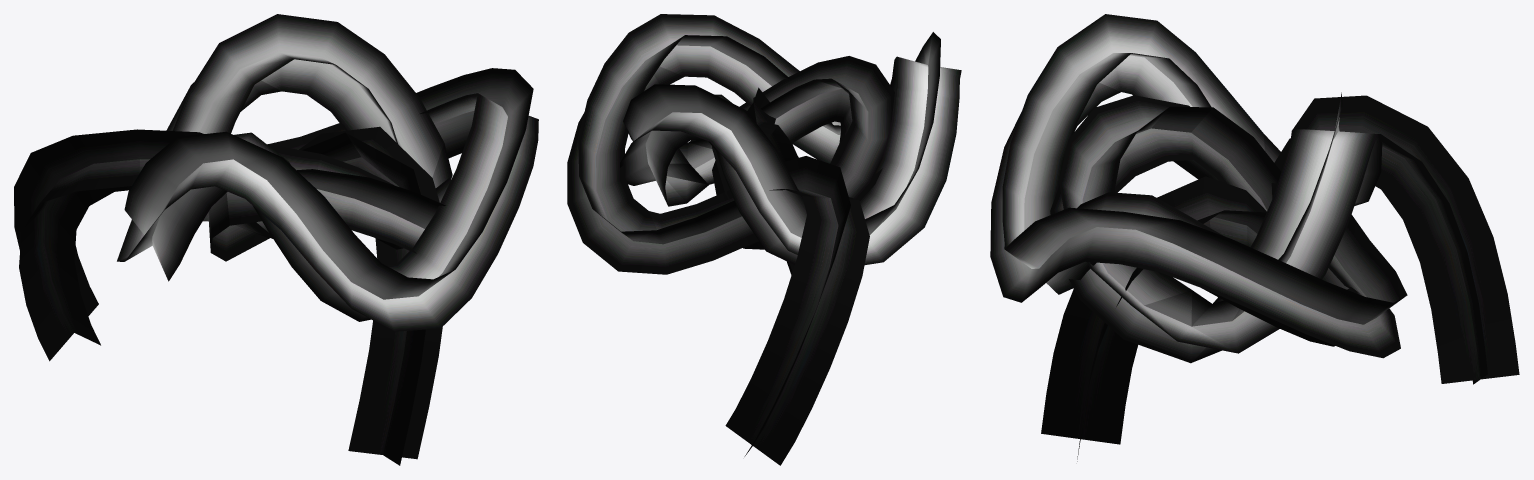
The model's file is vfx_kurp_0905.dae.
3 views of the same model, side by side, from view 1: azimuth 30°, elevation 25°; view 2: azimuth 150°, elevation 25°; view 3: azimuth 270°, elevation 25° (orthographic). The views are drawn at different scales.
Visible parts, largest first — view 1: vfx_kurp_0905; view 2: vfx_kurp_0905; view 3: vfx_kurp_0905.
Boxes of the visible parts, left/top/right/bottom form: vfx_kurp_0905: left=14, top=14, right=538, bottom=465; vfx_kurp_0905: left=567, top=14, right=961, bottom=465; vfx_kurp_0905: left=990, top=14, right=1519, bottom=461.
Bounding box in the file's own units: 8.66 × 9.91 × 7.61.
1 material, 1 textured.
